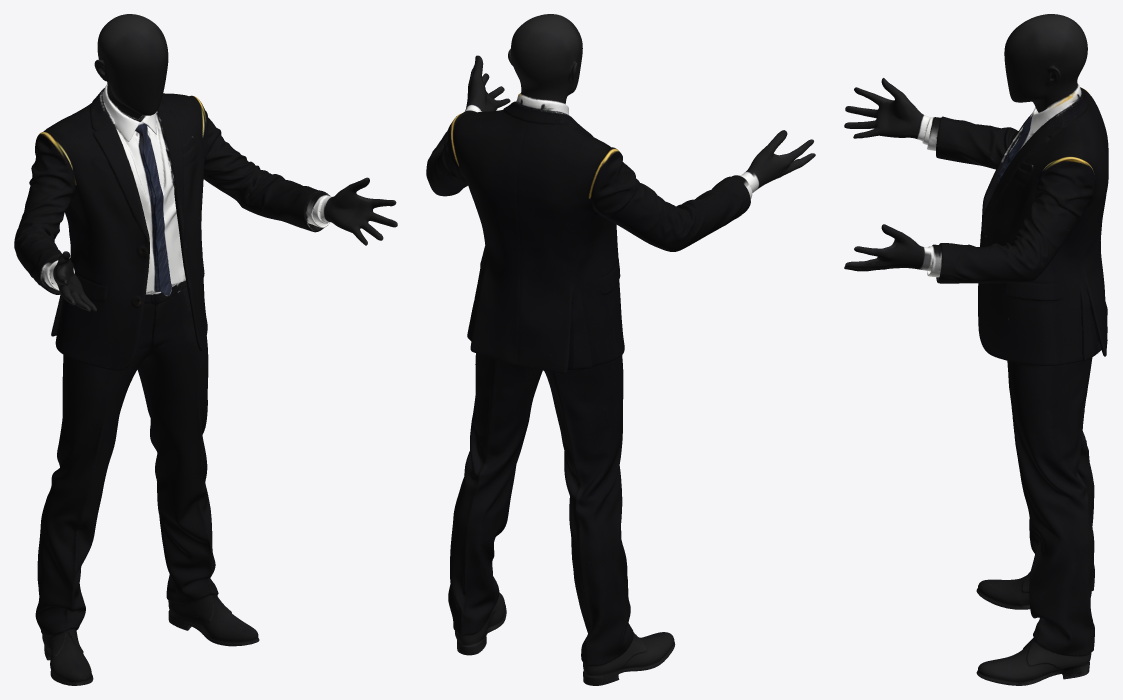
The model's file is 3d_figure.glb.
3 renders of one model, left to right at view 1: azimuth 30°, elevation 25°; view 2: azimuth 150°, elevation 25°; view 3: azimuth 270°, elevation 25°, orthographic. The views are drawn at different scales.
Bounding box in the file's own units: 1.05 × 1.9 × 0.7288.
Materials: 1 (1 with a texture image).
